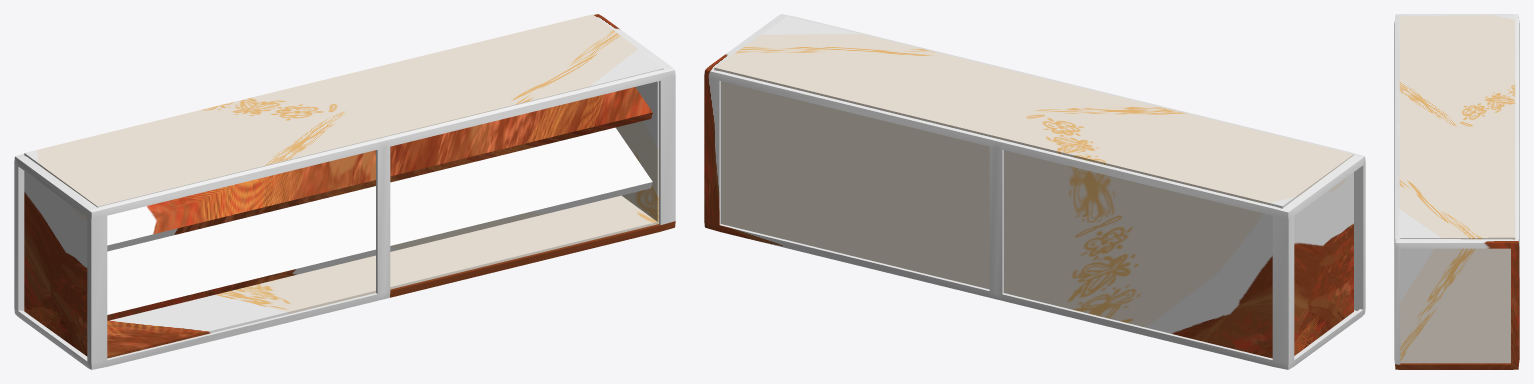
File: BagelCounter.obj
3 views of the same model, side by side, from view 1: azimuth 30°, elevation 25°; view 2: azimuth 150°, elevation 25°; view 3: azimuth 270°, elevation 25° (orthographic). The views are drawn at different scales.
Visible parts, largest first — view 1: pCube5, group1 pCube8, pCube6 group1, group1 pCube7; view 2: pCube5, pCube6 group1; view 3: pCube5, pCube6 group1.
Part boxes in pixels (x1,y1,x2,y2): pCube5: (24,14,663,358); group1 pCube8: (107,127,652,320); pCube6 group1: (14,14,675,369); group1 pCube7: (107,87,652,251); pCube5: (714,16,1353,358); pCube6 group1: (704,14,1365,369); pCube5: (1399,15,1515,363); pCube6 group1: (1394,14,1519,369).
Size of the model in its own units: 4.98 by 1.31 by 1.15.
